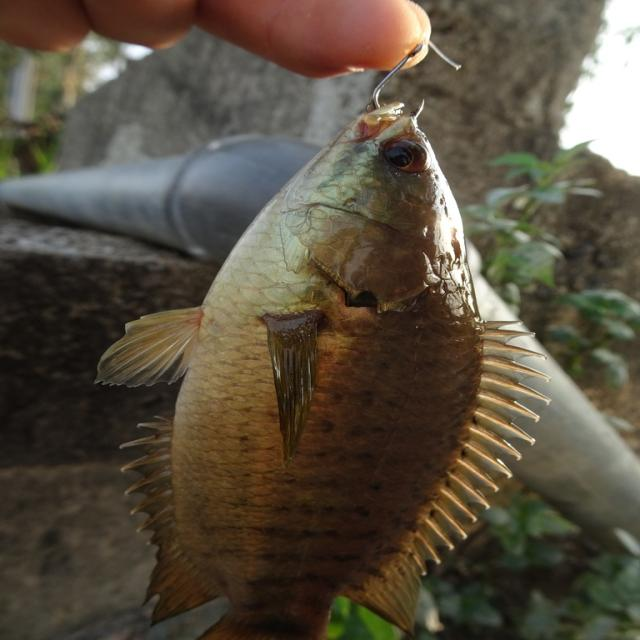Climbing-Perch: (62, 84, 586, 640)
